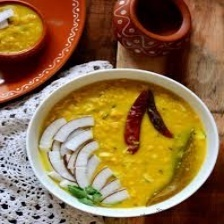dal: (0, 0, 48, 57)
